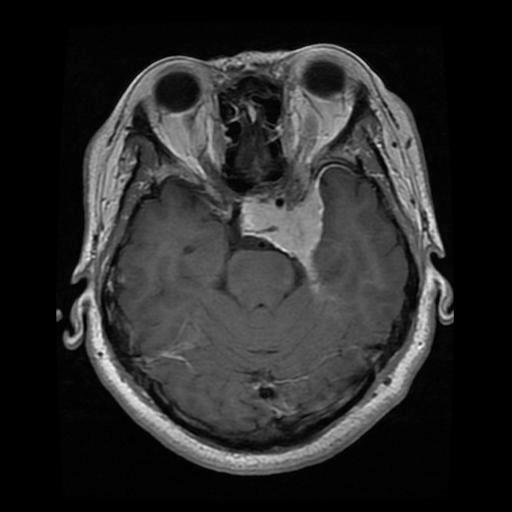Tumour-Meningioma: (218, 181, 348, 324)
